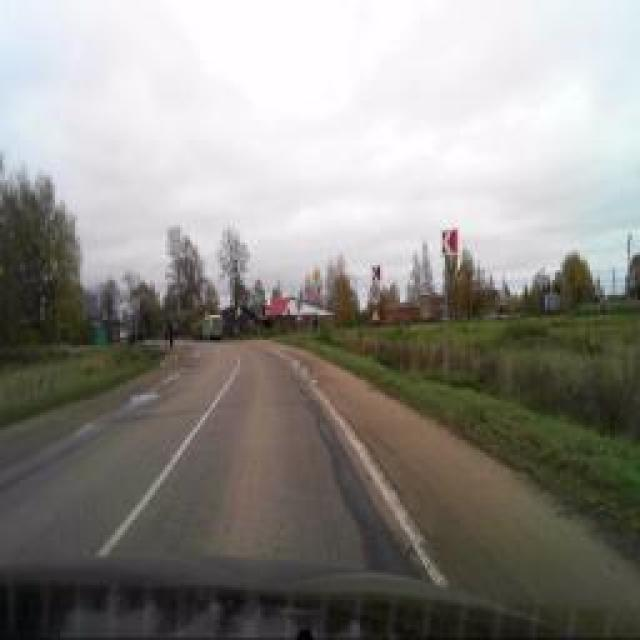sign: (369, 284, 381, 306)
